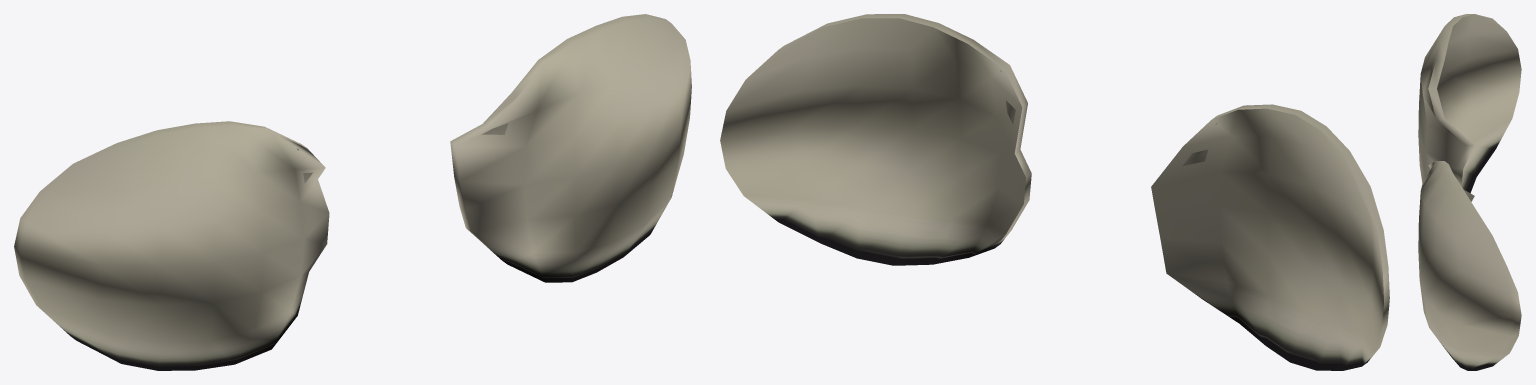
Rendered from Skeleton_Lids@Blink.fbx.
3 views of the same model, side by side, from view 1: azimuth 30°, elevation 25°; view 2: azimuth 150°, elevation 25°; view 3: azimuth 270°, elevation 25° (orthographic). The views are drawn at different scales.
Visible parts, largest first — view 1: Skeleton_Lids; view 2: Skeleton_Lids; view 3: Skeleton_Lids.
Boxes of the visible parts, x1,y1,x2,y2 form: Skeleton_Lids: (14, 14, 691, 370); Skeleton_Lids: (720, 14, 1389, 370); Skeleton_Lids: (1418, 14, 1521, 370).
Size of the model in its own units: 0.268 by 0.094 by 0.0475.
